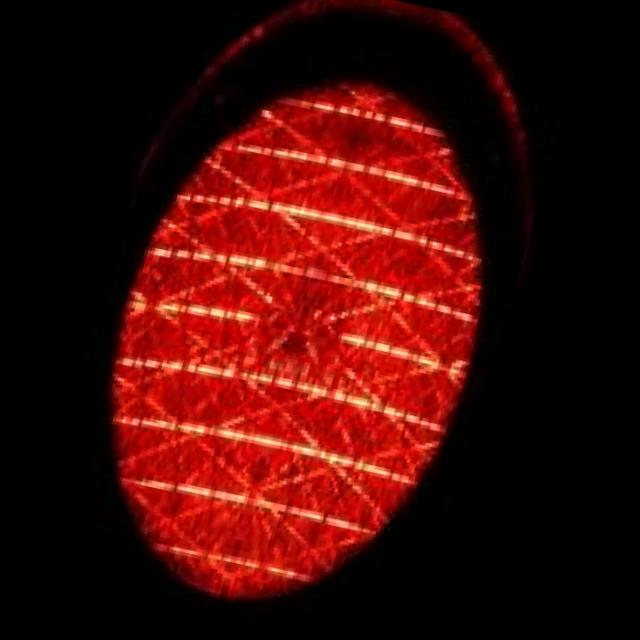red_light: (3, 53, 631, 639)
